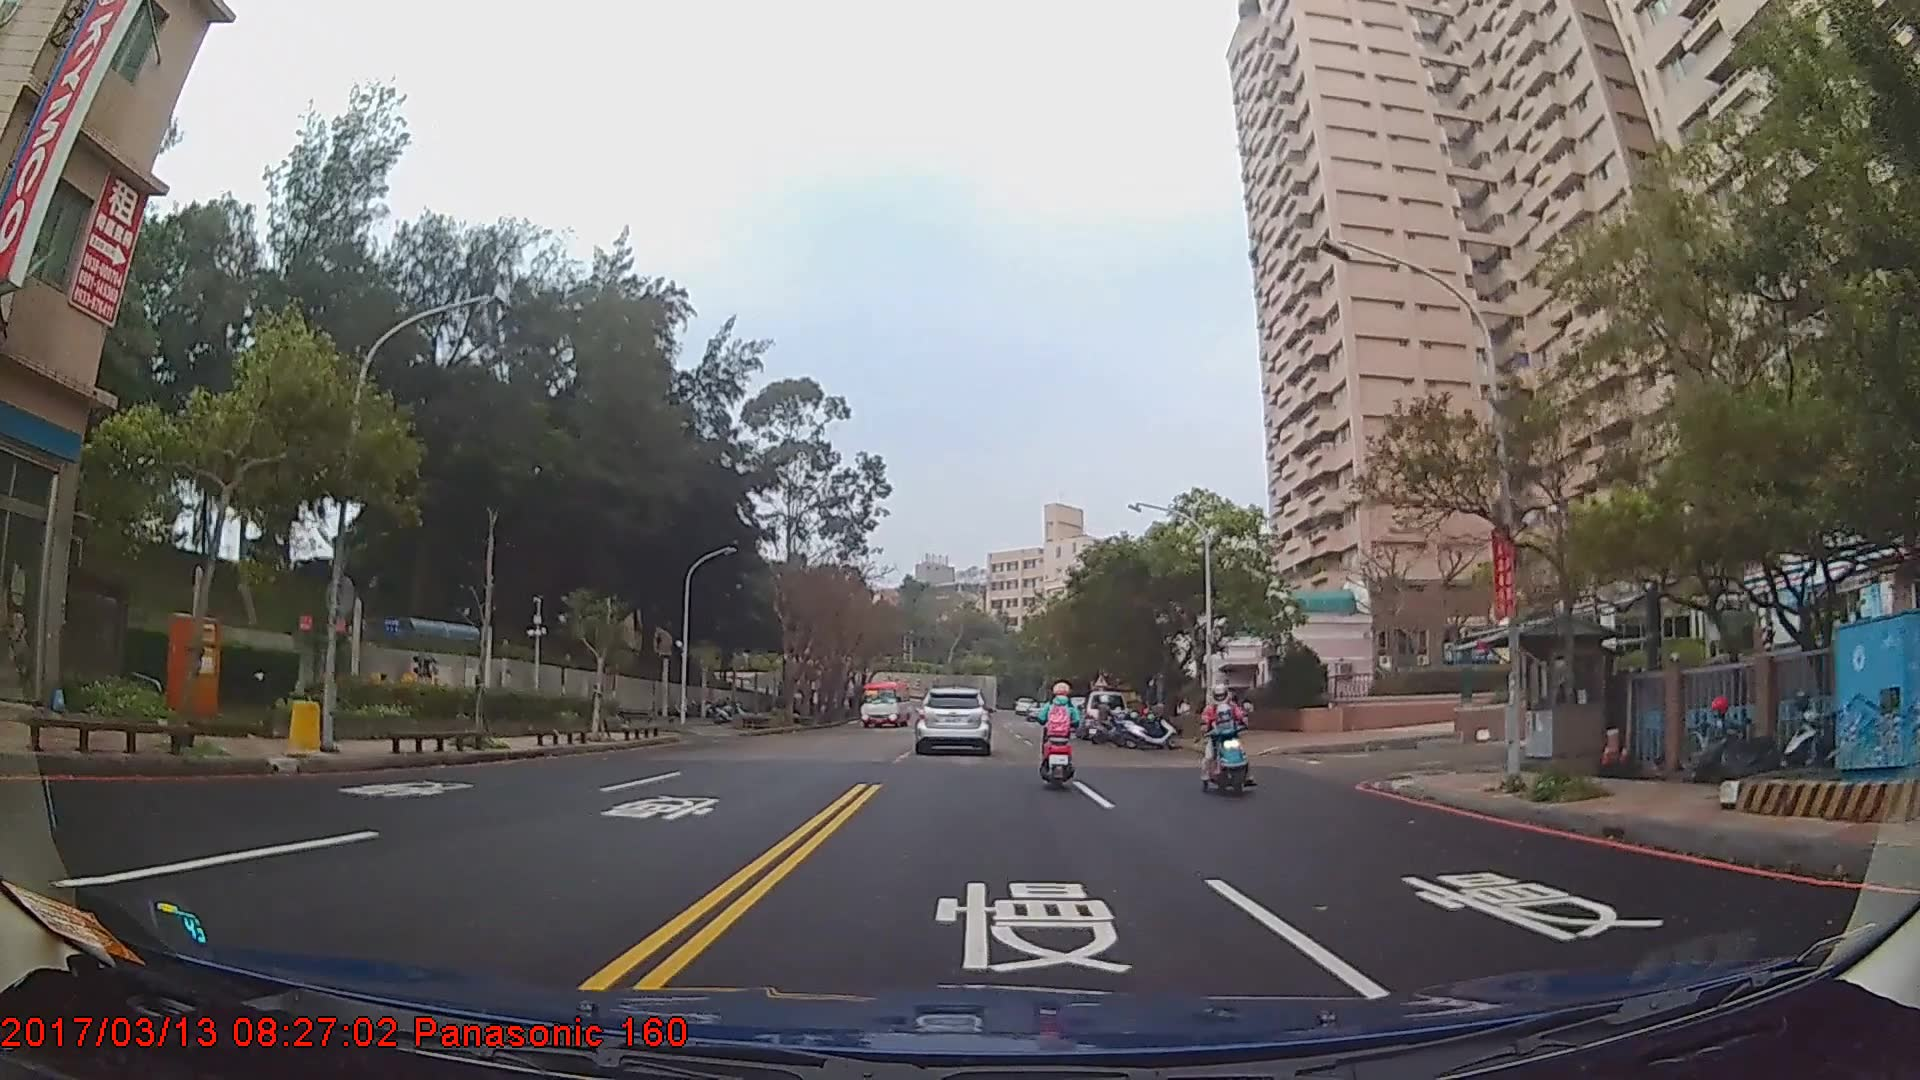rider: (1199, 683, 1253, 795), (1036, 679, 1079, 792), (1087, 694, 1123, 743)
vehicle: (913, 685, 990, 756), (861, 677, 912, 729), (1077, 689, 1127, 739)
